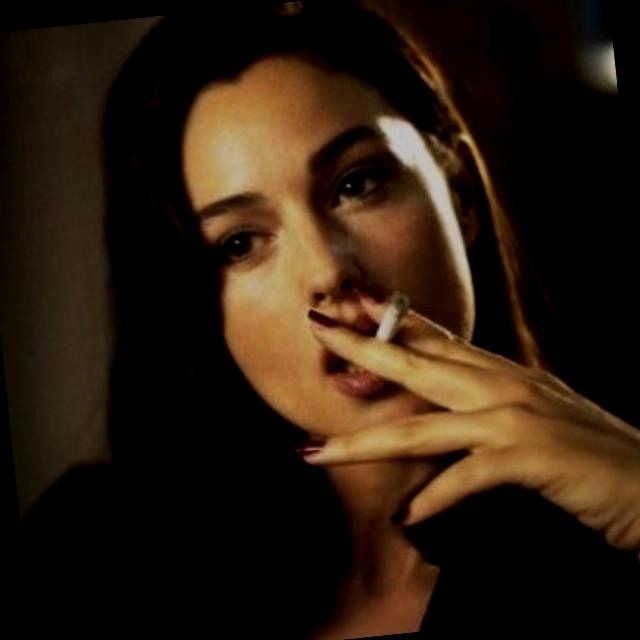cigarette: (330, 269, 443, 384)
